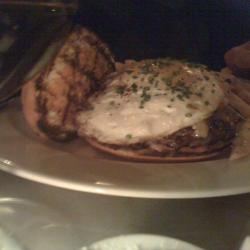burger: (21, 27, 245, 174)
